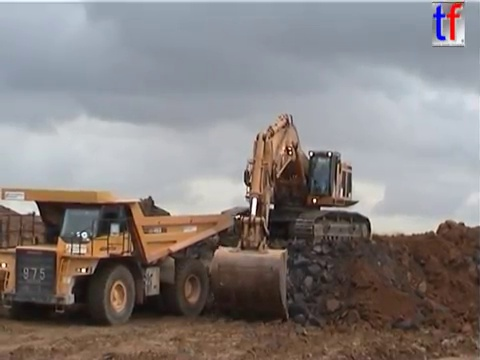excavator: (207, 110, 375, 324)
truck: (1, 185, 237, 328)
